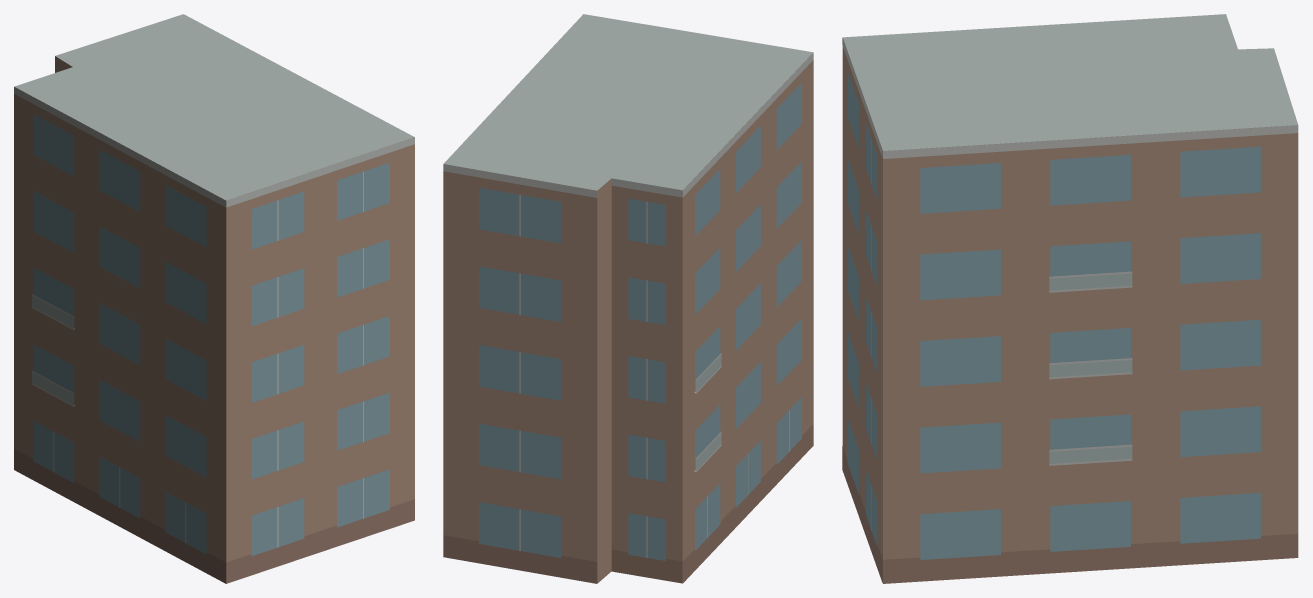
The model's file is survey-upis-32716138.glb.
3 views of the same model, side by side, from view 1: azimuth 30°, elevation 25°; view 2: azimuth 150°, elevation 25°; view 3: azimuth 270°, elevation 25° (orthographic). The views are drawn at different scales.
Visible parts, largest first — view 1: survey-upis-32716138.tmp; view 2: survey-upis-32716138.tmp; view 3: survey-upis-32716138.tmp.
Boxes of the visible parts, x1,y1,x2,y2 form: survey-upis-32716138.tmp: [14, 14, 414, 583]; survey-upis-32716138.tmp: [443, 14, 813, 583]; survey-upis-32716138.tmp: [842, 14, 1298, 583].
Bounding box in the file's own units: 8.98 × 13.2 × 12.61.
